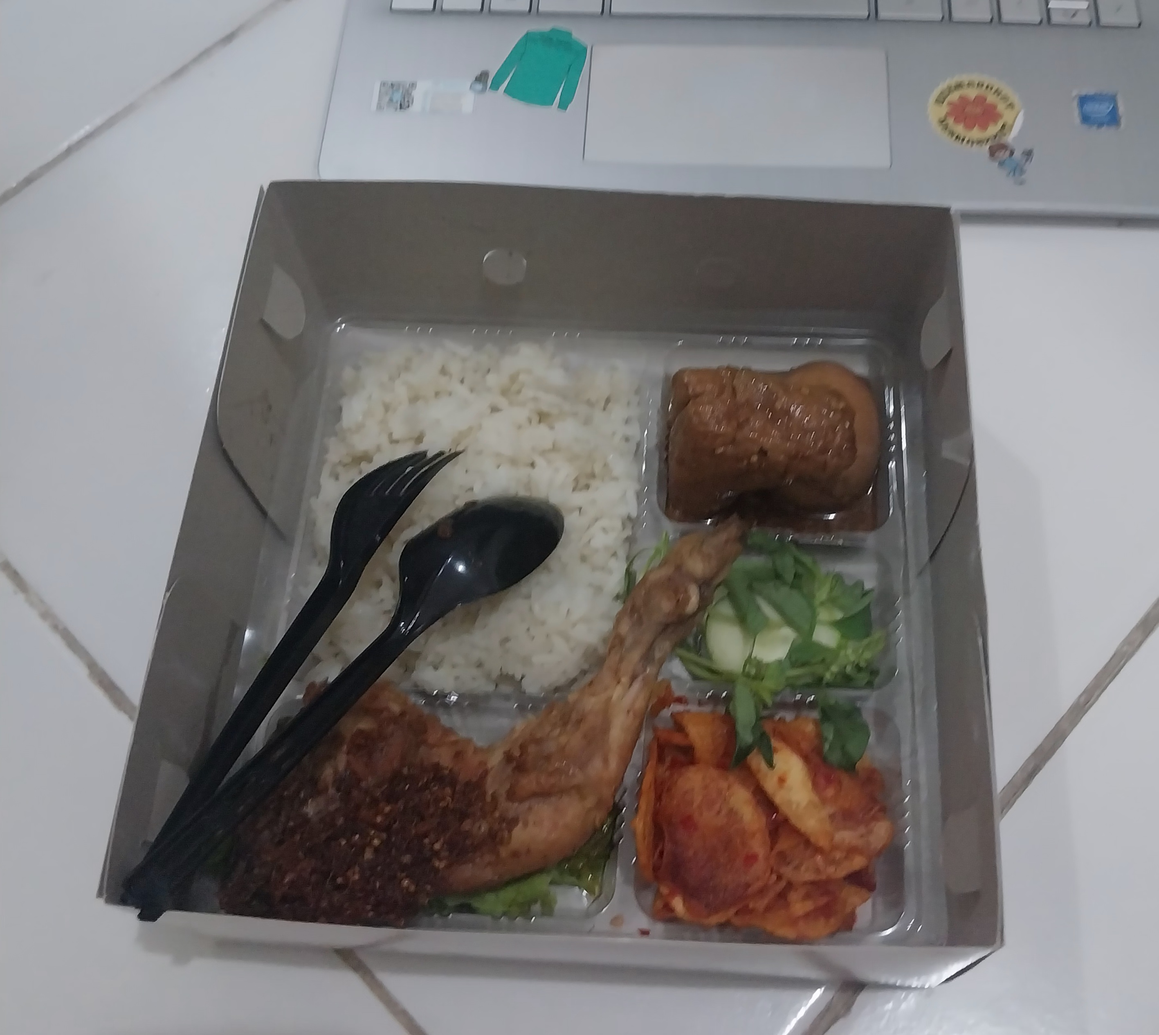buah_sayur_lainnya: (673, 540, 889, 704)
daging: (271, 700, 592, 906)
makanan_berpati: (352, 352, 586, 649)
